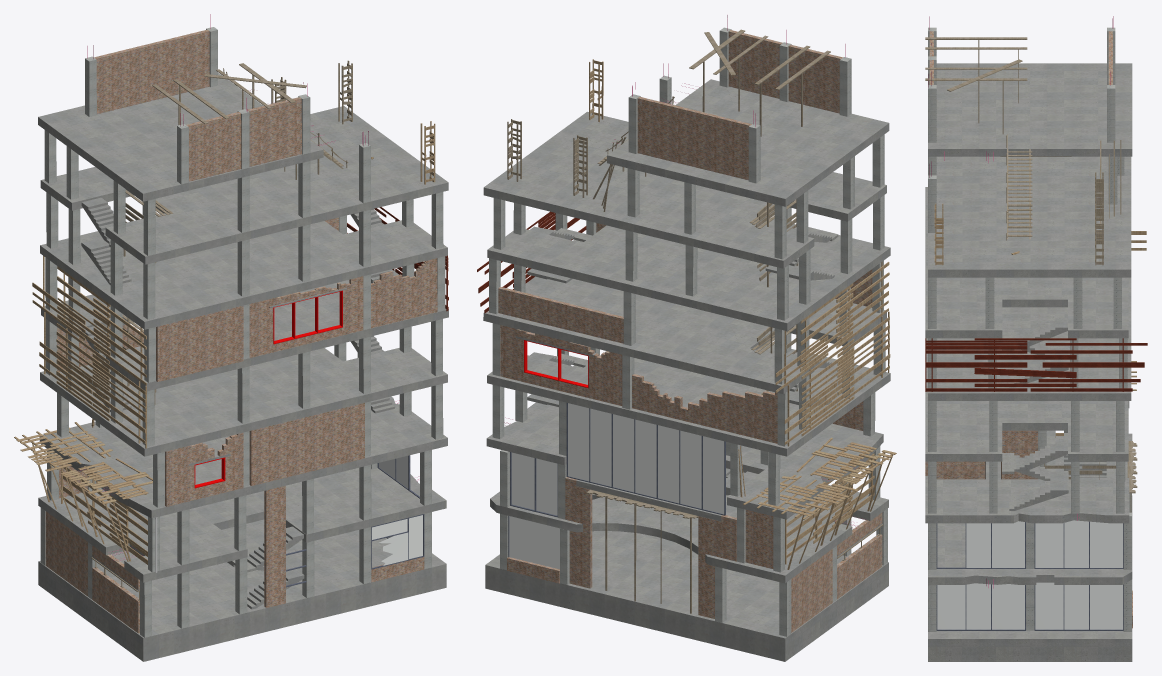
File: construction.glb
3 renders of one model, left to right at view 1: azimuth 30°, elevation 25°; view 2: azimuth 150°, elevation 25°; view 3: azimuth 270°, elevation 25°, orthographic. The views are drawn at different scales.
Size of the model in its own units: 23.15 by 33.98 by 13.07.
Materials: 13 (9 with a texture image).
